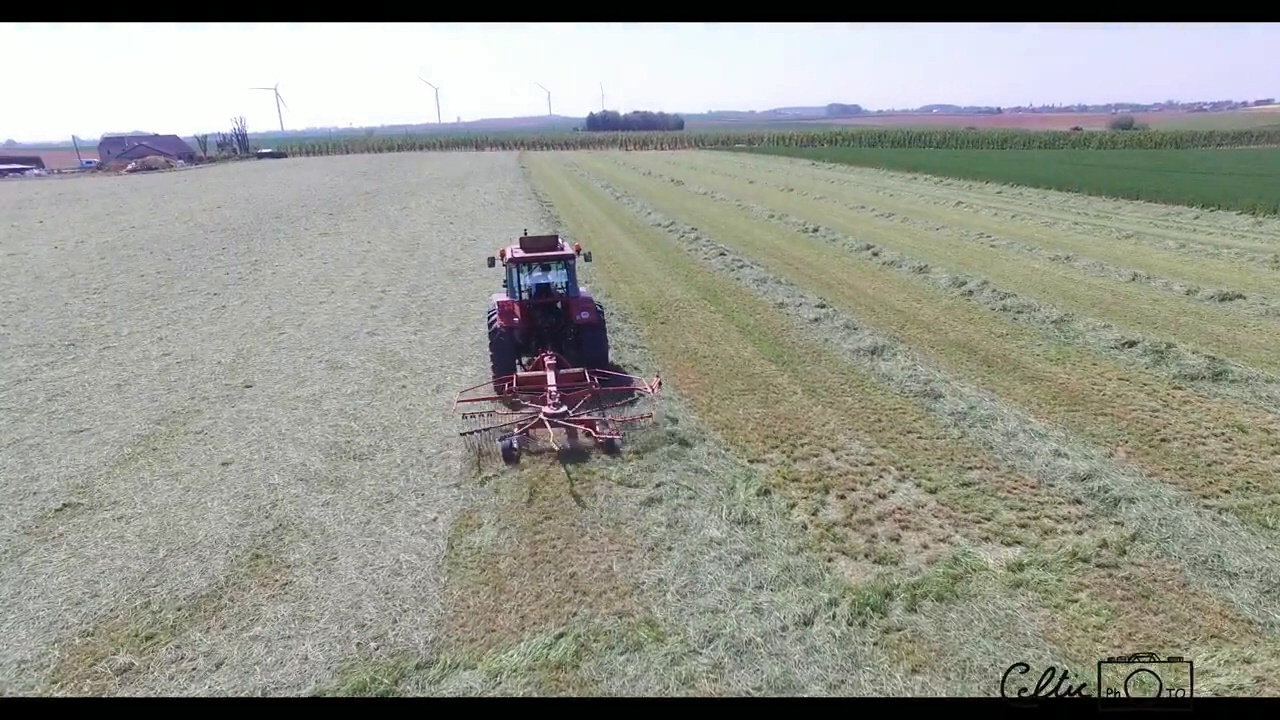traktor: (482, 228, 613, 371)
